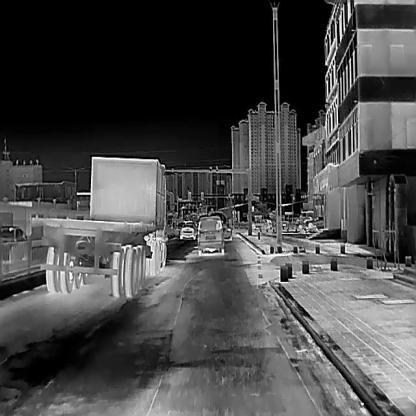car: (31, 156, 174, 297), (0, 224, 28, 265), (196, 216, 224, 255), (179, 223, 196, 239), (306, 215, 323, 229), (251, 218, 271, 228), (222, 223, 232, 240)
